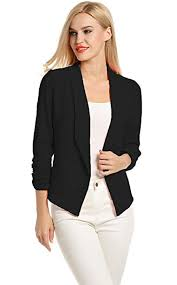F_W_suit jacket: (26, 59, 153, 218)
